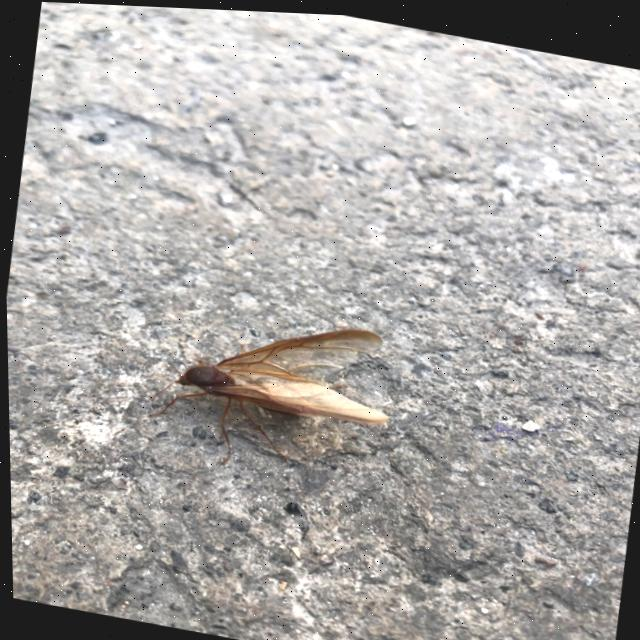Alive-Male-Alate: (140, 291, 401, 493)
